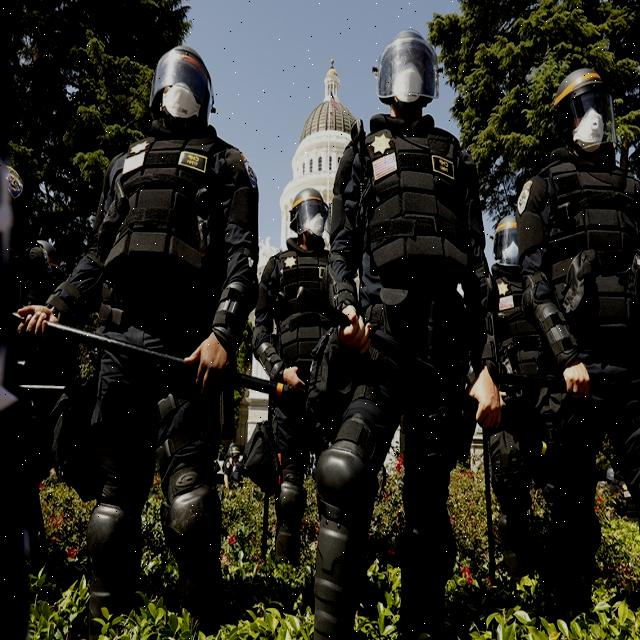police: (62, 38, 260, 631), (316, 30, 502, 640), (524, 51, 640, 617), (245, 183, 338, 576)
